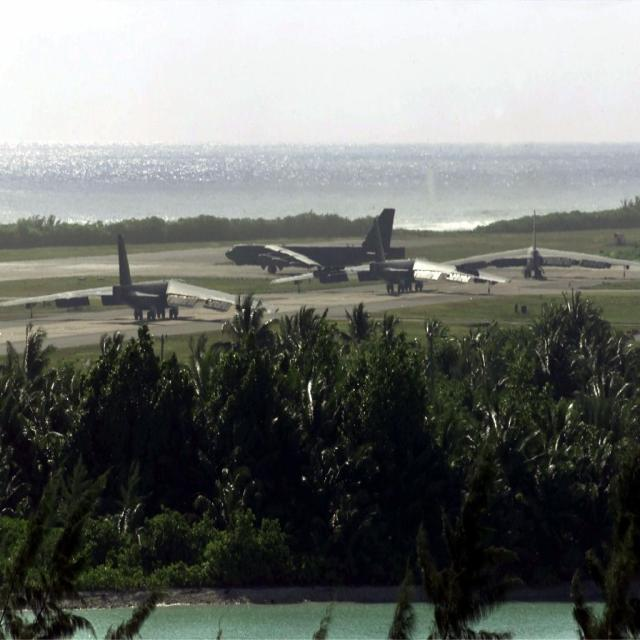MIL_Plane: (268, 26, 512, 102), (420, 208, 621, 280), (32, 207, 214, 274), (96, 40, 184, 128)
